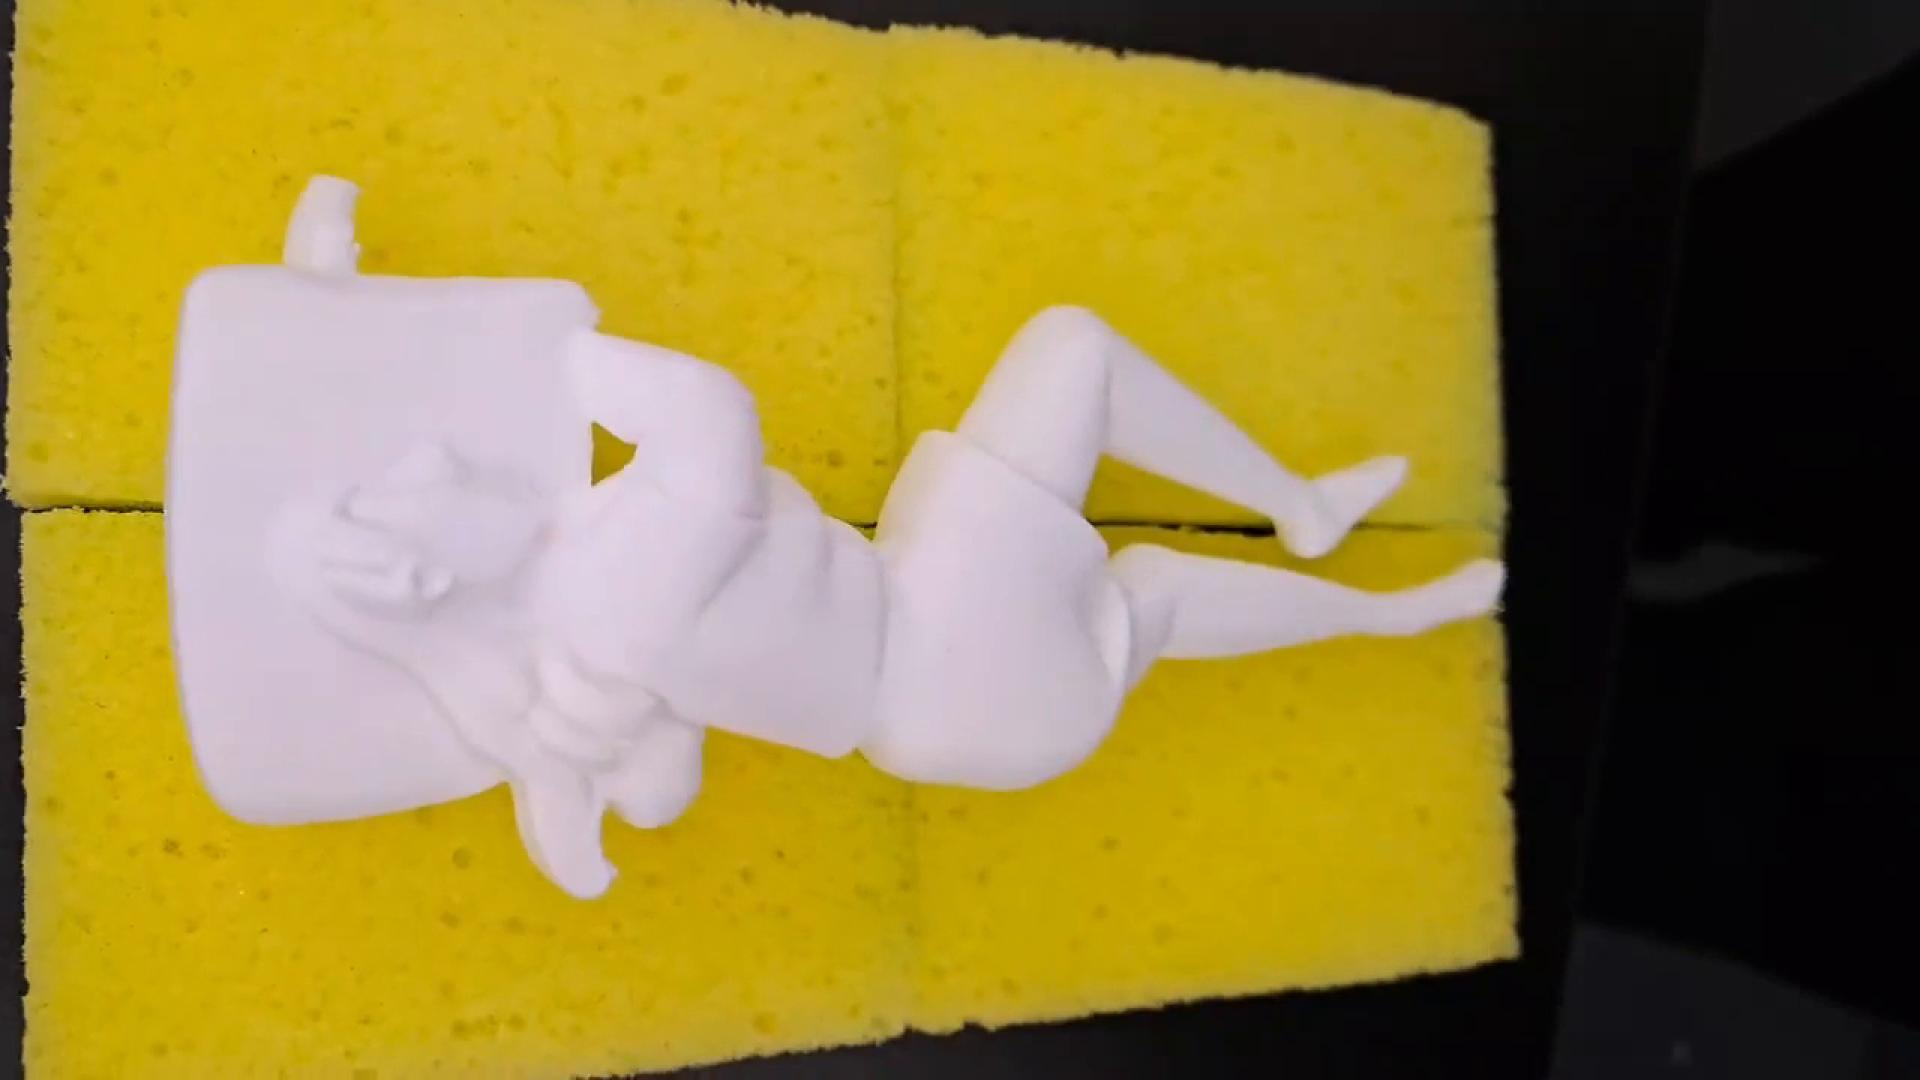Good-style: (120, 177, 1563, 905)
